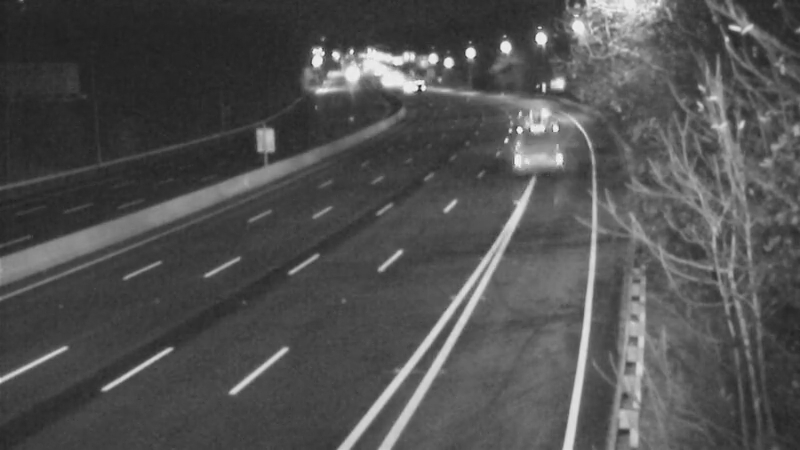vehicle: (359, 57, 409, 107), (394, 60, 444, 110), (381, 66, 431, 116), (505, 100, 555, 150)
